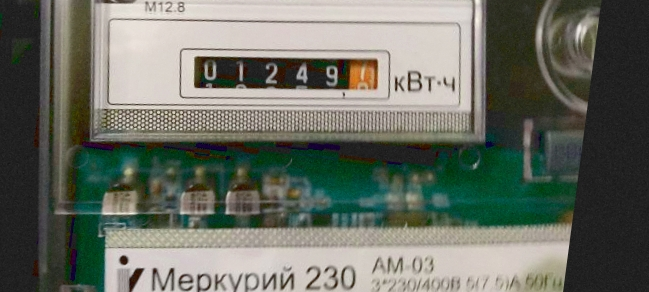0: (198, 54, 220, 82)
1: (230, 57, 248, 84)
2: (259, 59, 283, 87)
4: (292, 57, 313, 86)
7: (353, 57, 371, 83)
9: (321, 61, 342, 88)
screen: (167, 25, 407, 130)
